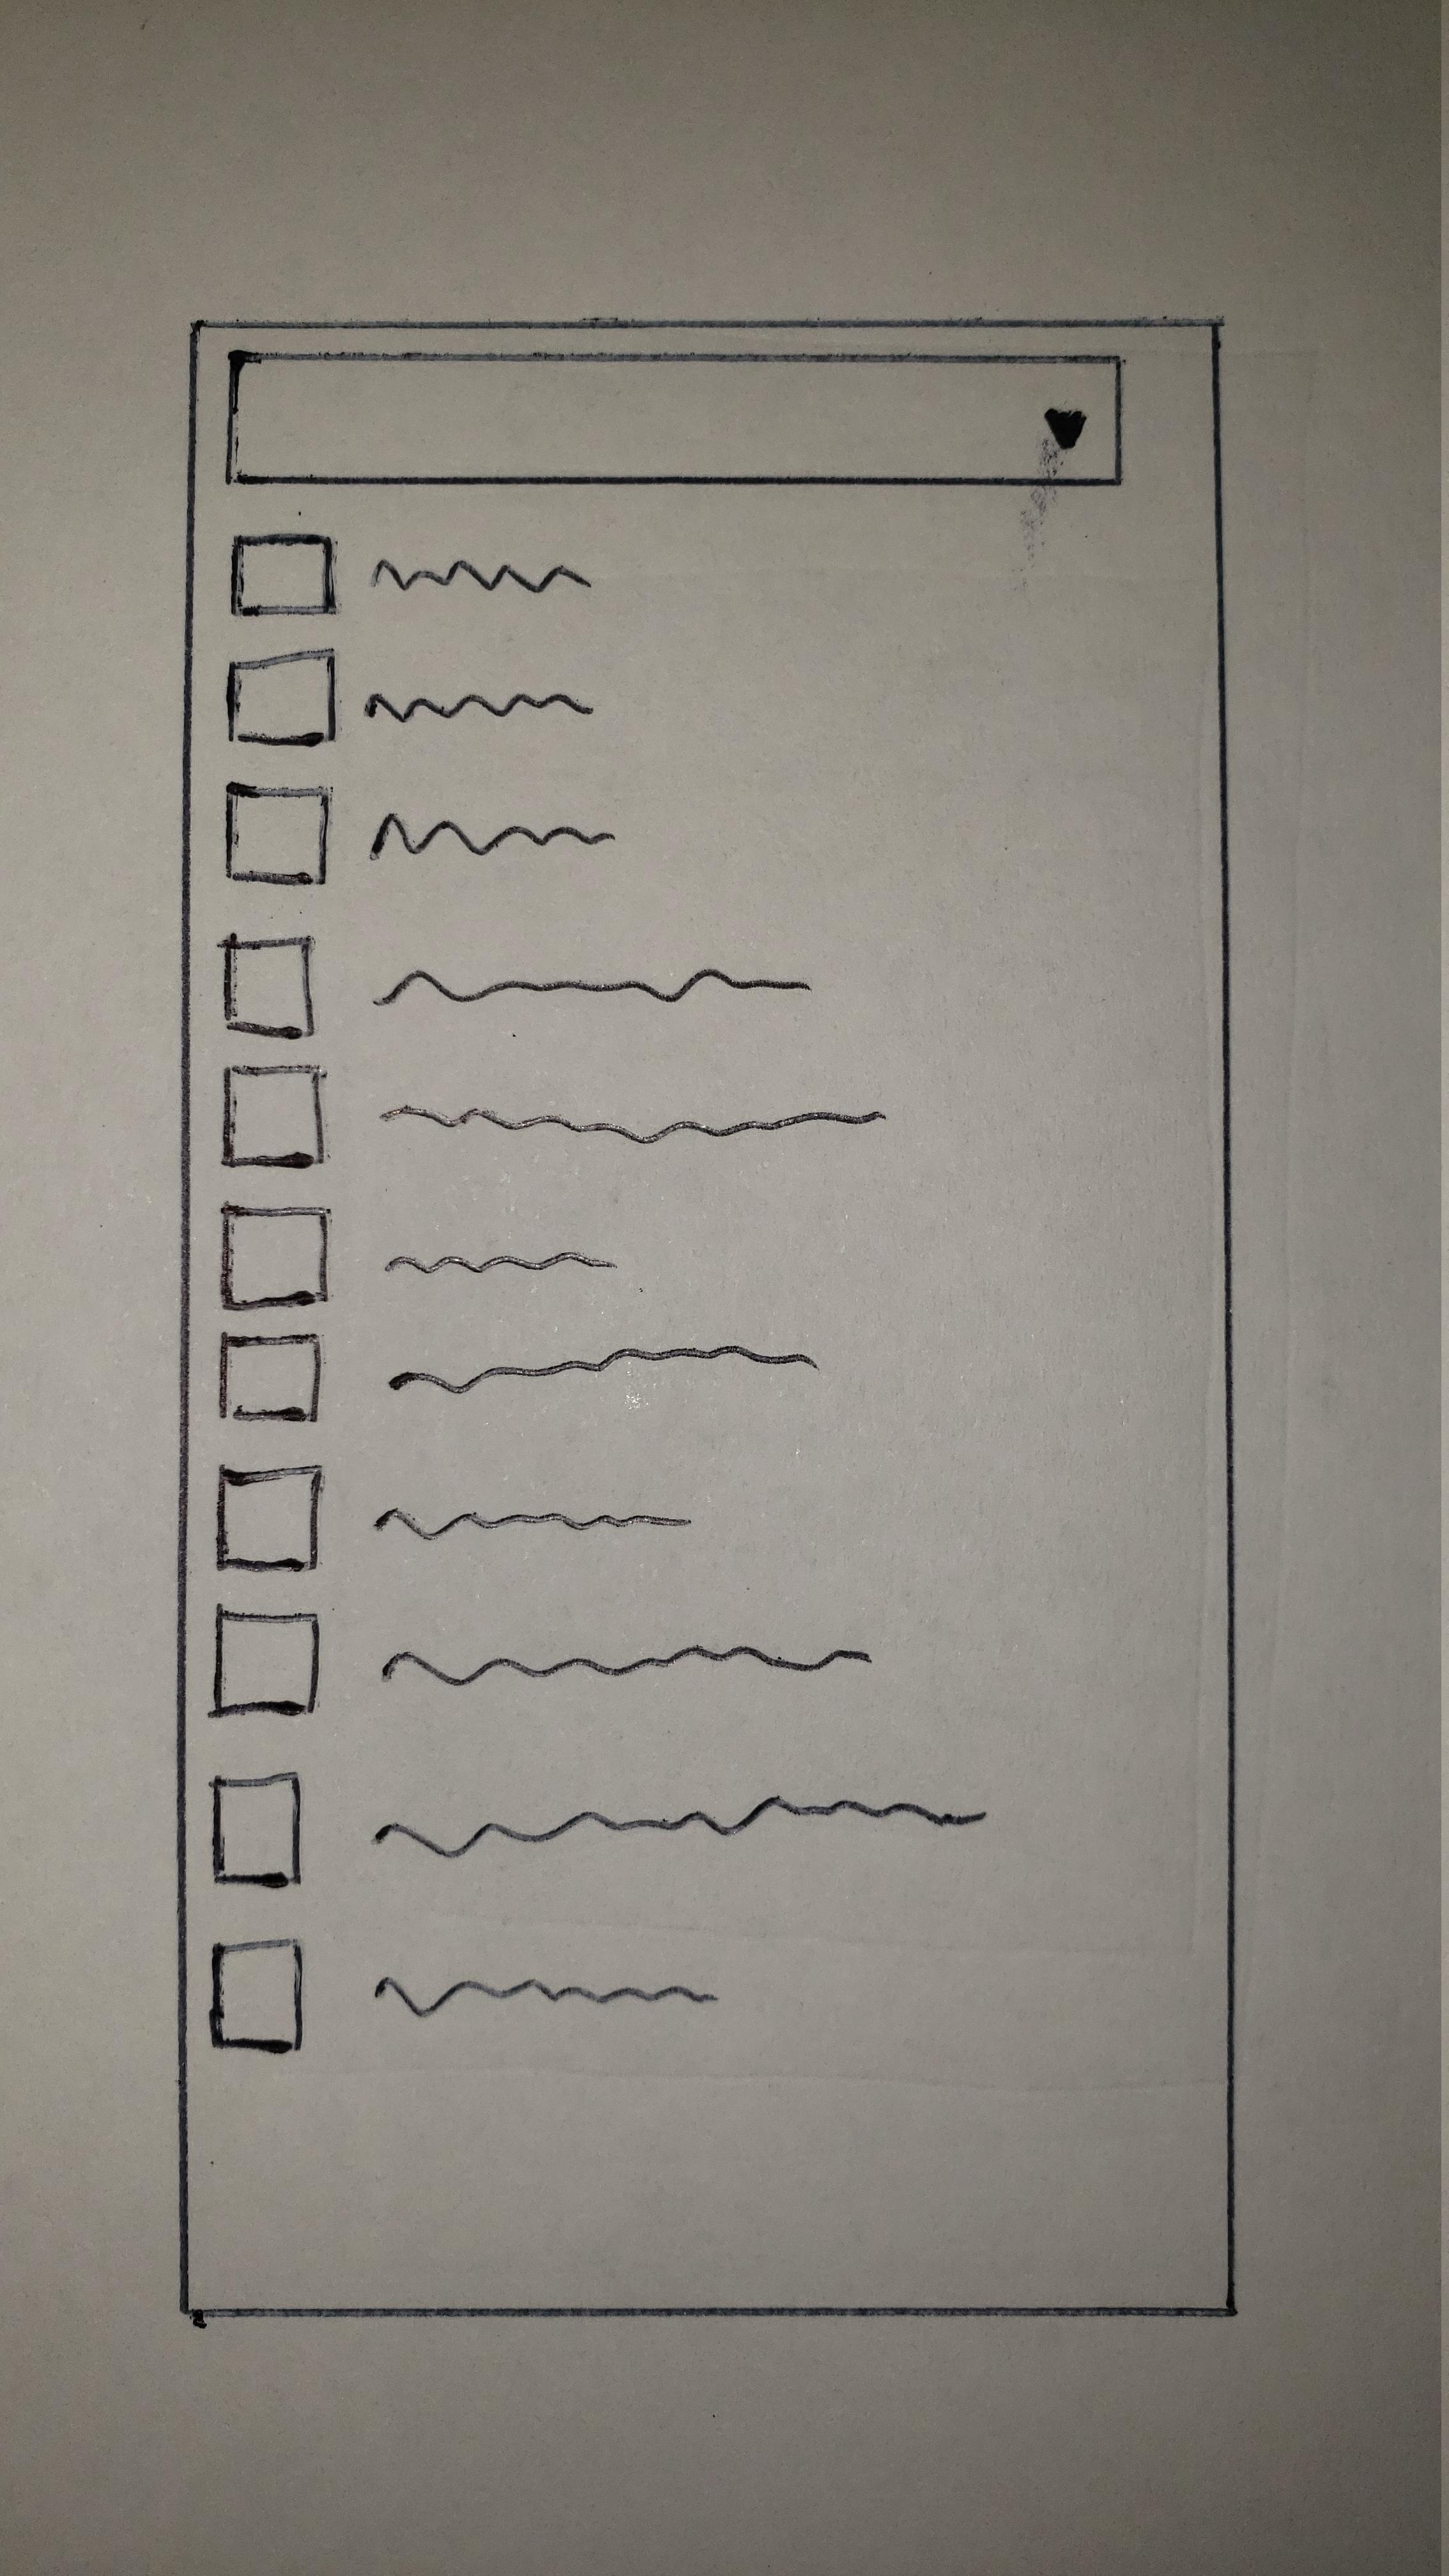CheckBox: (211, 1771, 984, 1888), (214, 1606, 874, 1716), (223, 1063, 883, 1166), (221, 931, 810, 1039), (211, 1937, 718, 2056), (221, 1329, 819, 1422), (216, 1465, 694, 1573), (221, 1201, 619, 1311), (226, 780, 616, 886), (226, 644, 600, 745), (228, 529, 589, 616)
ListPicker: (225, 347, 1123, 488)
Screen: (179, 318, 1240, 2319)
